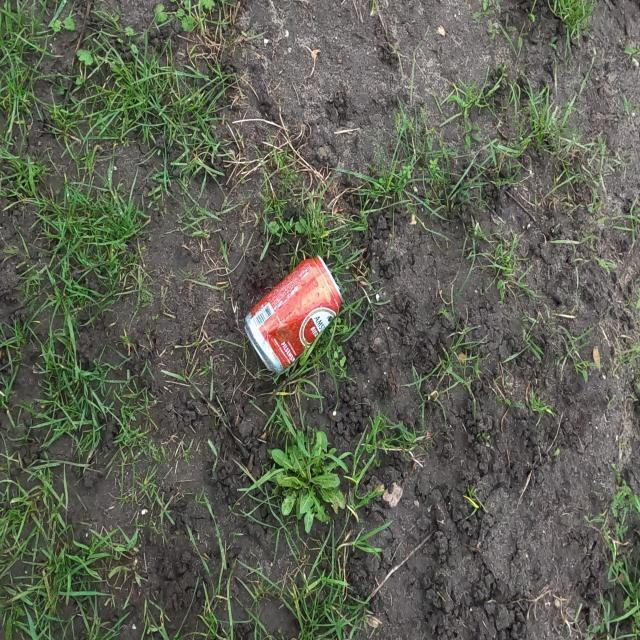Can-Metal: (239, 252, 345, 380)
